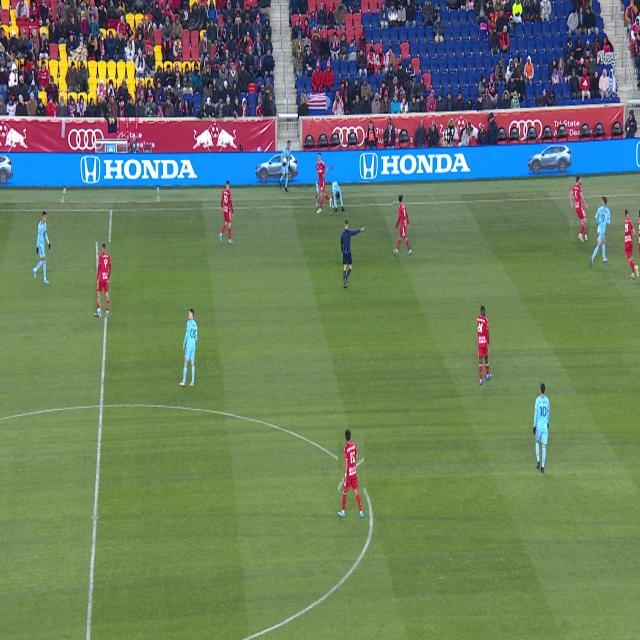player: (338, 429, 364, 518), (533, 383, 550, 473), (590, 197, 611, 268), (179, 309, 198, 387), (569, 175, 589, 242), (33, 212, 50, 284), (95, 242, 111, 317), (477, 306, 492, 385), (393, 195, 412, 255), (317, 154, 332, 214), (626, 210, 639, 278), (219, 181, 233, 244), (330, 181, 344, 212)
referee: (341, 220, 365, 288)
